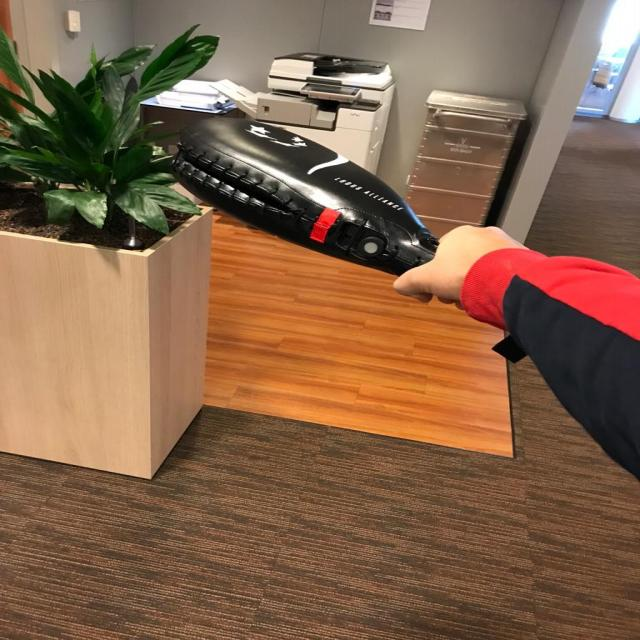paddle: (163, 110, 439, 278)
